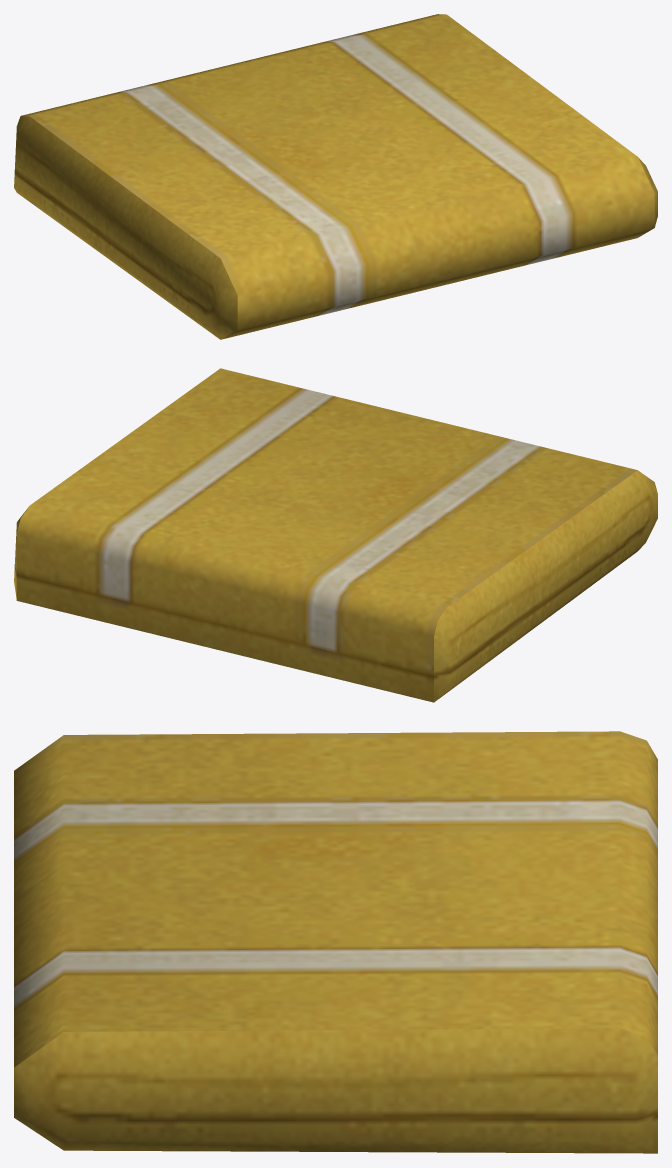
The model's file is p6_pool_towel_folded_01_lod1.glb.
3 views of the same model, one above another, from view 1: azimuth 30°, elevation 25°; view 2: azimuth 150°, elevation 25°; view 3: azimuth 270°, elevation 25° (orthographic). The views are drawn at different scales.
Parts seen in each view (by area): view 1: surf0; view 2: surf0; view 3: surf0.
Boxes of the visible parts, x1,y1,x2,y2 form: surf0: (14,14,657,339); surf0: (14,368,657,702); surf0: (14,731,657,1153).
Size of the model in its own units: 22.4 by 4.21 by 19.64.
